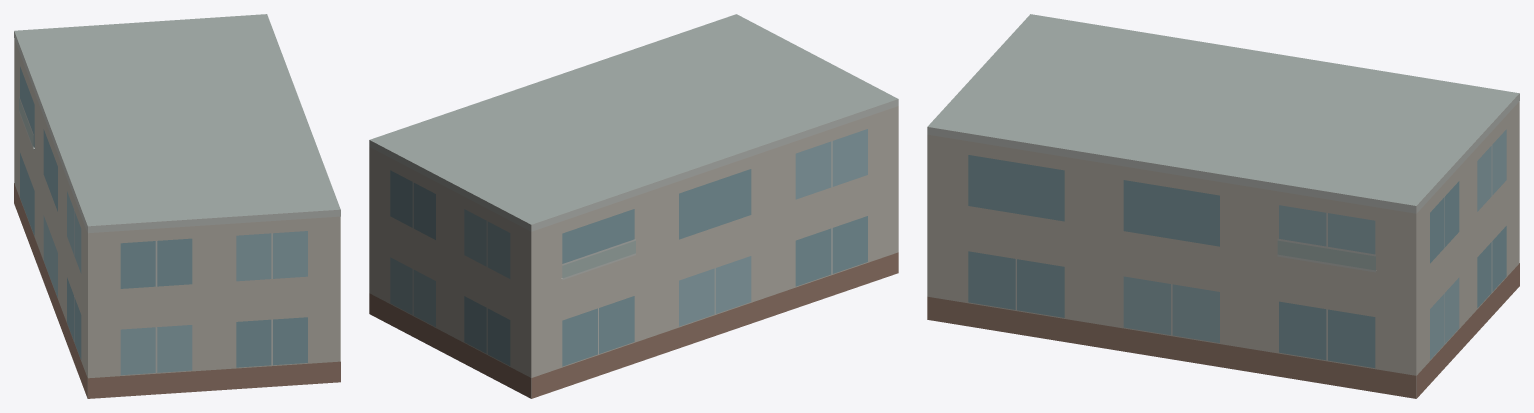
File: survey-upis-32858887.glb
3 renders of one model, left to right at view 1: azimuth 30°, elevation 25°; view 2: azimuth 150°, elevation 25°; view 3: azimuth 270°, elevation 25°, orthographic. The views are drawn at different scales.
Visible parts, largest first — view 1: survey-upis-32858887.tmp; view 2: survey-upis-32858887.tmp; view 3: survey-upis-32858887.tmp.
Boxes of the visible parts, left/top/right/bottom form: survey-upis-32858887.tmp: left=14, top=14, right=340, bottom=398; survey-upis-32858887.tmp: left=369, top=14, right=898, bottom=398; survey-upis-32858887.tmp: left=927, top=14, right=1519, bottom=398.
Bounding box in the file's own units: 13.03 × 6.1 × 16.99.
